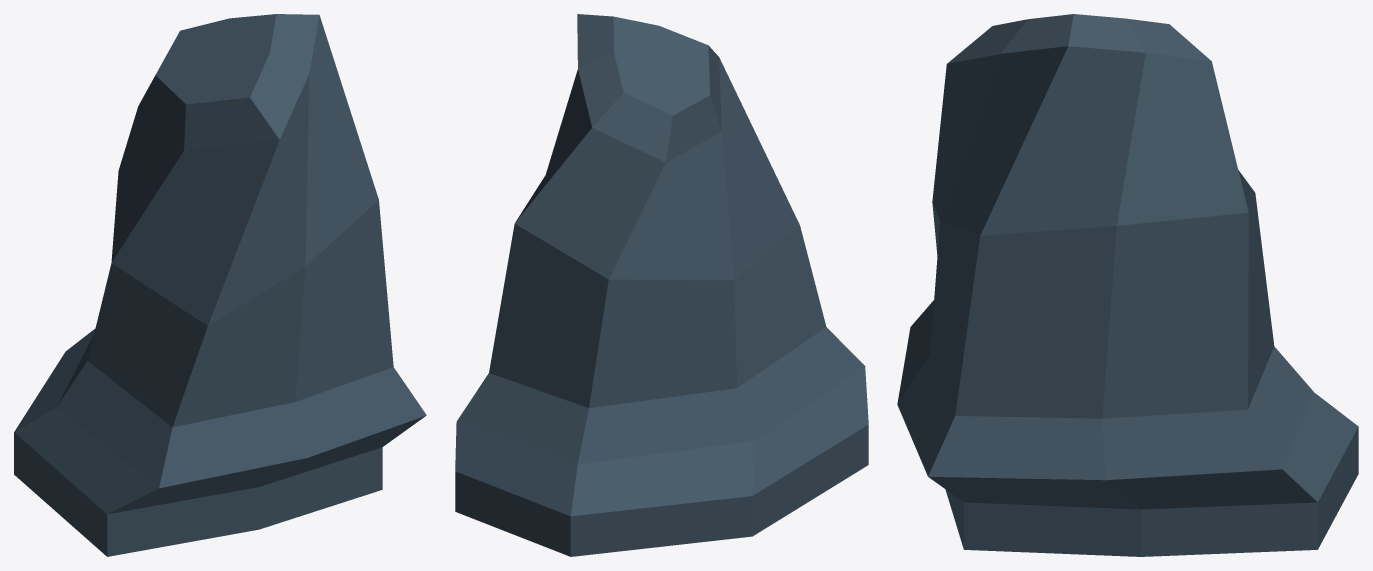
The model's file is rock3.gltf.
The picture shows the model from 3 angles, left to right: view 1: azimuth 30°, elevation 25°; view 2: azimuth 150°, elevation 25°; view 3: azimuth 270°, elevation 25°; orthographic projection. The views are drawn at different scales.
Parts seen in each view (by area): view 1: ROCk 9_533; view 2: ROCk 9_533; view 3: ROCk 9_533.
Part boxes in pixels (x1,y1,x2,y2): ROCk 9_533: (14, 14, 426, 556); ROCk 9_533: (455, 14, 868, 556); ROCk 9_533: (897, 14, 1358, 556).
Bounding box in the file's own units: 0.9301 × 1.3 × 1.08.
